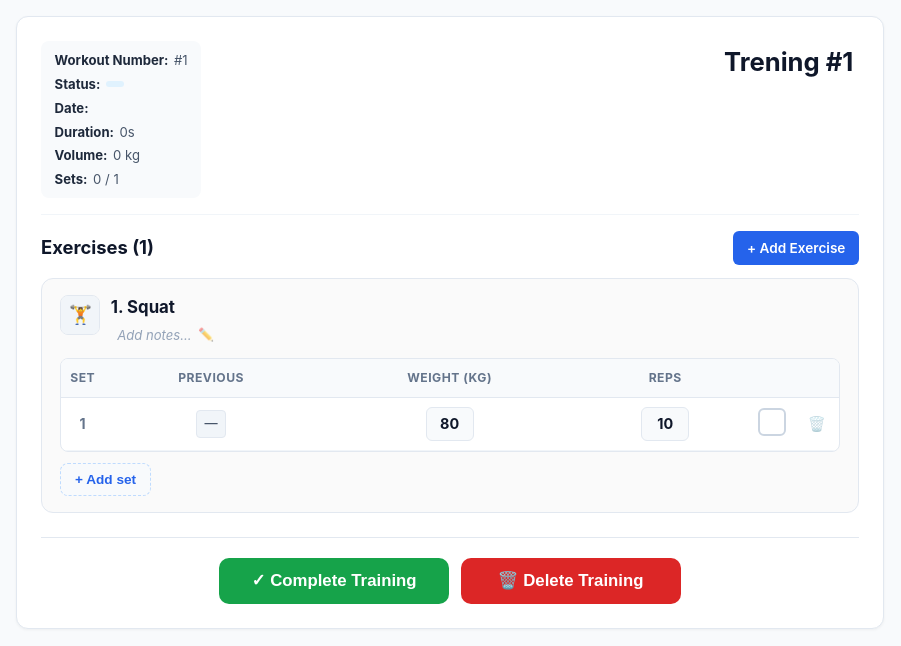
WorkoutDetailComponent › should render checkbox for each set and toggle completion on click
Click the button with class "btn-check-set" at coordinates (772, 422), box left=758, top=408, right=786, bottom=436
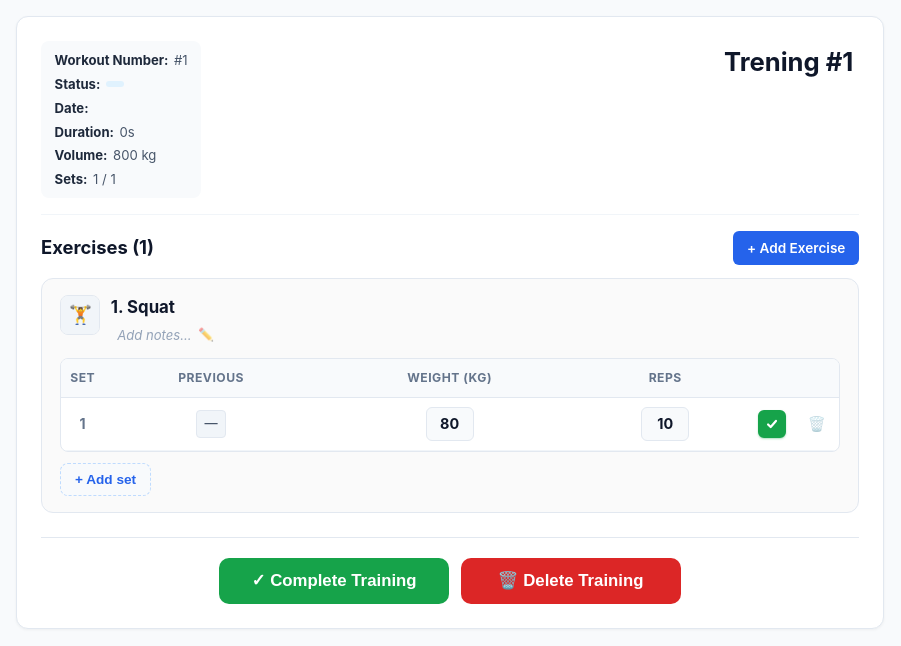
Now the icon with class "check-icon" is shown, box left=765, top=417, right=779, bottom=431
